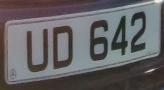2: (129, 7, 150, 59)
4: (110, 10, 131, 64)
6: (88, 13, 111, 70)
D: (47, 21, 80, 73)
U: (20, 24, 53, 76)
